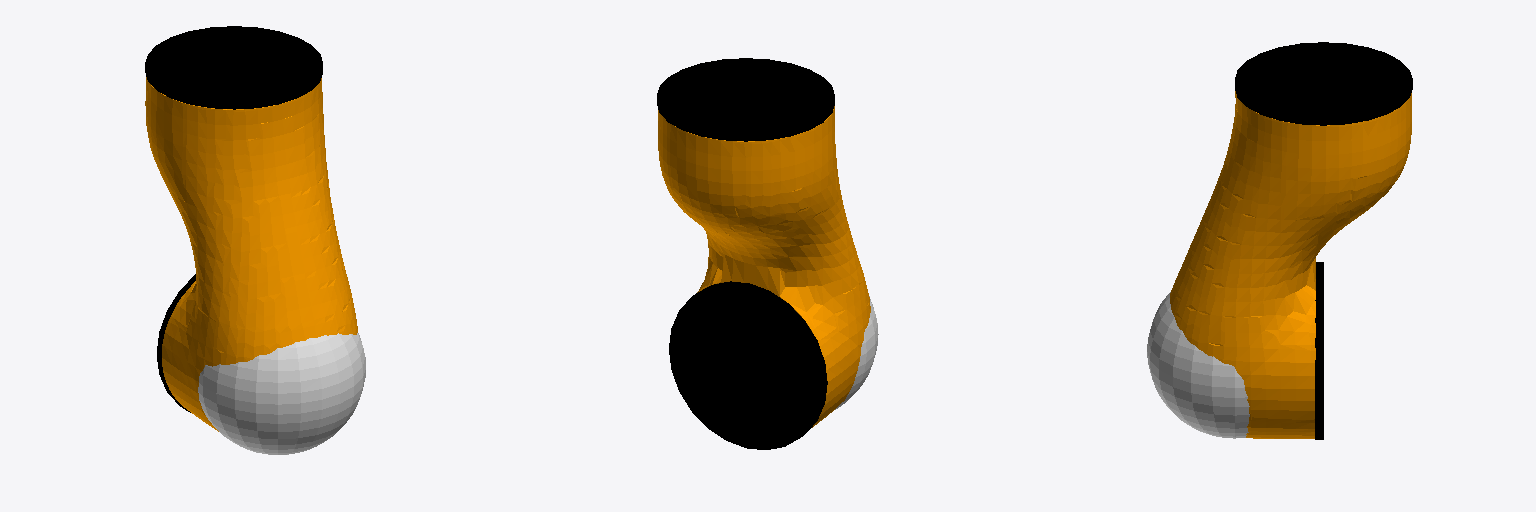
File: lbr3_j2.obj
3 views of the same model, side by side, from view 1: azimuth 30°, elevation 25°; view 2: azimuth 150°, elevation 25°; view 3: azimuth 270°, elevation 25° (orthographic).
Visible parts, largest first — view 1: Entity_link__2, Default_1_link__2, Default_2_link__2, Default_2_link__1; view 2: Entity_link__2, Default_2_link__1, Default_2_link__2, Default_1_link__2; view 3: Entity_link__2, Default_2_link__2, Default_1_link__2, Default_2_link__1.
Part boxes in pixels (x1,y1,x2,y2): Entity_link__2: (145,77,357,431); Default_1_link__2: (198,333,365,454); Default_2_link__2: (145,26,322,109); Default_2_link__1: (157,274,195,412); Entity_link__2: (658,106,870,427); Default_2_link__1: (669,281,827,449); Default_2_link__2: (657,58,834,141); Default_1_link__2: (835,296,878,409); Entity_link__2: (1170,91,1411,438); Default_2_link__2: (1235,42,1412,125); Default_1_link__2: (1147,292,1249,438); Default_2_link__1: (1315,262,1323,439).
Bounding box in the file's own units: 0.0826 × 0.1796 × 0.1229.